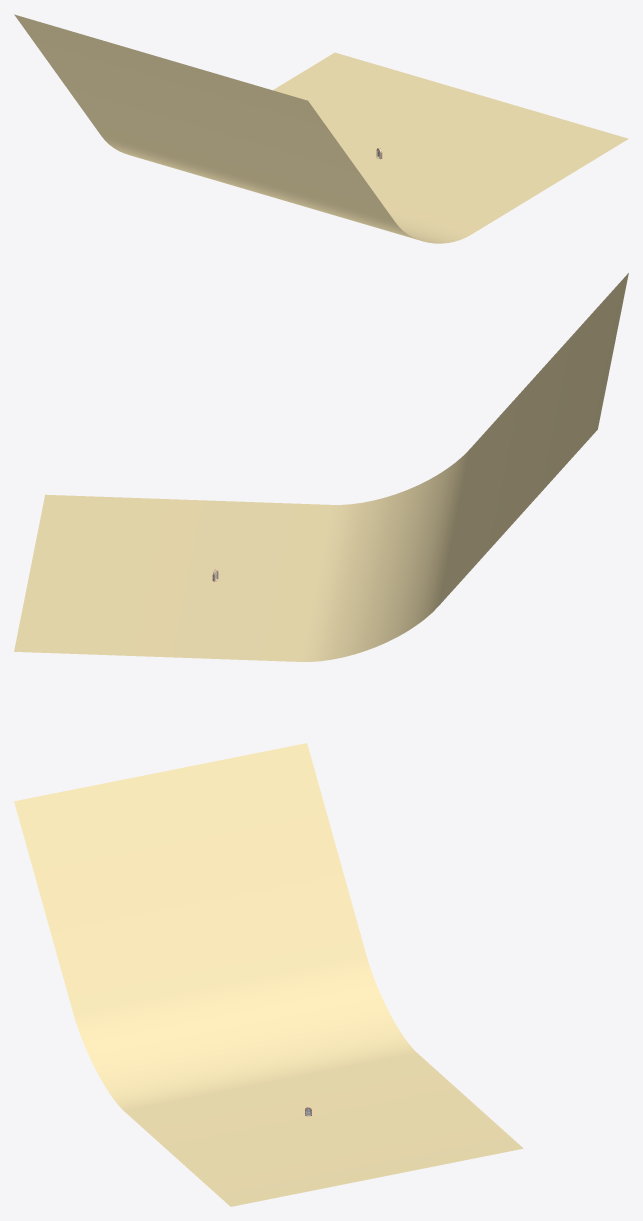
Rendered from window.glb.
3 renders of one model, top to bottom at view 1: azimuth 30°, elevation 25°; view 2: azimuth 150°, elevation 25°; view 3: azimuth 270°, elevation 25°, orthographic. The views are drawn at different scales.
Parts seen in each view (by area): view 1: Backround; view 2: Backround; view 3: Backround.
Part boxes in pixels (<box>): Backround: <box>14,14,628,243</box>; Backround: <box>14,273,628,661</box>; Backround: <box>14,743,523,1206</box>.
Bounding box in the file's own units: 319 × 124 × 328.
